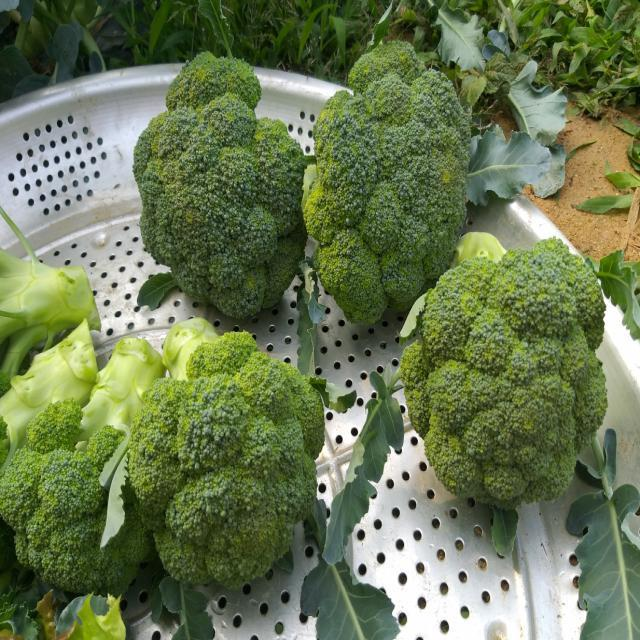broccoli: (398, 240, 611, 510), (126, 322, 324, 584), (307, 34, 476, 330), (128, 51, 304, 316), (0, 336, 166, 595)
